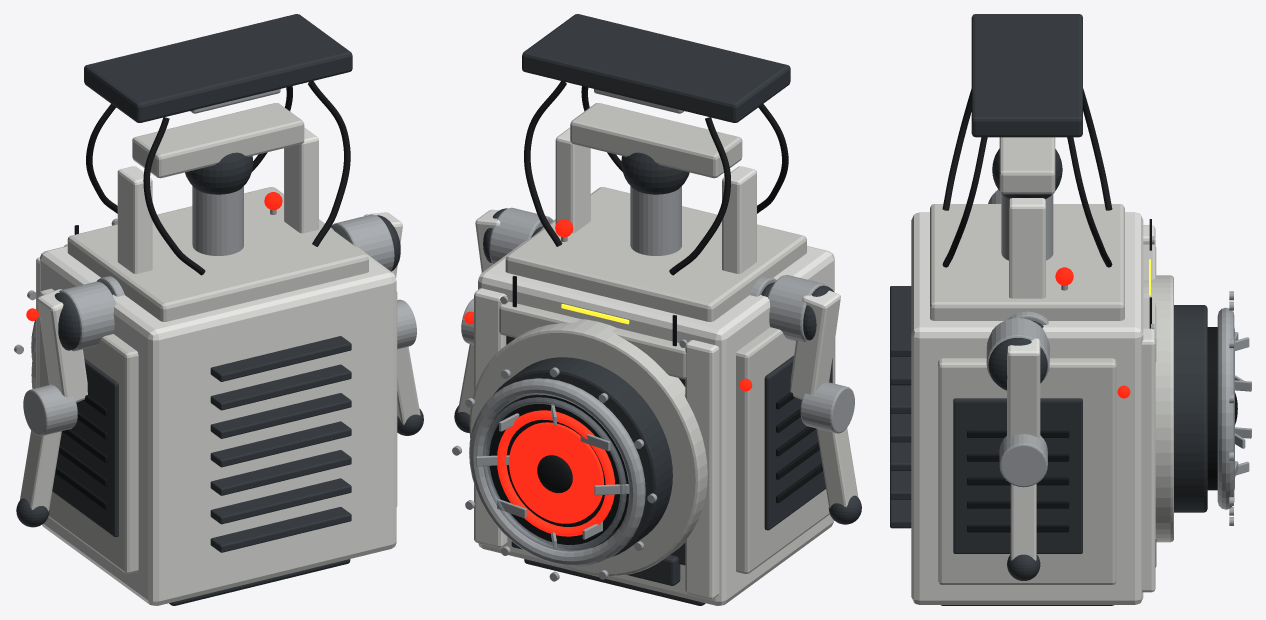
Rendered from moss.glb.
3 renders of one model, left to right at view 1: azimuth 30°, elevation 25°; view 2: azimuth 150°, elevation 25°; view 3: azimuth 270°, elevation 25°, orthographic.
Visible parts, largest first — view 1: Body_Core, Body_Top, Ceiling_Rail, Side_Panel_-1, Gimbal_Yoke_Top, Side_Inset_-1, Yoke_Arm_-1, Gimbal_Post, Yoke_Arm_1, Arm_Upper_-1, Heatsink_5, Heatsink_0 (+18 smaller); view 2: Body_Top, Body_Core, Ceiling_Rail, Lens_Base, Side_Panel_-1, Lens_Rim, Lens_Barrel, Gimbal_Yoke_Top, Front_Pillar_-1, Lens_Red_Glass, Side_Inset_-1, Lens_Inner (+23 smaller); view 3: Body_Core, Side_Panel_1, Body_Top, Ceiling_Rail, Side_Inset_1, Lens_Barrel, Lens_Base, Yoke_Arm_1, Front_Pillar_1, Lens_Rim, Gimbal_Yoke_Top, Arm_Upper_1 (+24 smaller).
Boxes of the visible parts, x1,y1,x2,y2 form: Body_Core: [40, 219, 396, 605]; Body_Top: [67, 187, 368, 321]; Ceiling_Rail: [84, 14, 352, 122]; Side_Panel_-1: [39, 288, 138, 573]; Gimbal_Yoke_Top: [132, 103, 304, 178]; Side_Inset_-1: [52, 358, 118, 536]; Yoke_Arm_-1: [117, 166, 152, 273]; Gimbal_Post: [192, 186, 243, 255]; Yoke_Arm_1: [284, 127, 318, 233]; Arm_Upper_-1: [37, 289, 87, 402]; Heatsink_5: [210, 364, 351, 410]; Heatsink_0: [210, 507, 351, 552]; Body_Top: [505, 187, 806, 321]; Body_Core: [478, 219, 834, 605]; Ceiling_Rail: [522, 14, 790, 122]; Lens_Base: [469, 319, 707, 575]; Side_Panel_-1: [736, 327, 835, 573]; Lens_Rim: [469, 378, 645, 566]; Lens_Barrel: [486, 357, 672, 556]; Gimbal_Yoke_Top: [570, 103, 742, 178]; Front_Pillar_-1: [685, 340, 719, 599]; Lens_Red_Glass: [509, 422, 603, 523]; Side_Inset_-1: [764, 355, 832, 530]; Lens_Inner: [488, 394, 628, 546]; Body_Core: [911, 212, 1143, 604]; Side_Panel_1: [938, 358, 1116, 584]; Body_Top: [930, 204, 1124, 320]; Ceiling_Rail: [971, 14, 1082, 137]; Side_Inset_1: [953, 398, 1082, 553]; Lens_Barrel: [1174, 305, 1207, 512]; Lens_Base: [1143, 275, 1173, 542]; Yoke_Arm_1: [1009, 198, 1045, 298]; Front_Pillar_1: [1142, 328, 1155, 592]; Lens_Rim: [1217, 307, 1234, 509]; Gimbal_Yoke_Top: [999, 137, 1055, 194]; Arm_Upper_1: [1007, 338, 1040, 438].
Bounding box in the file's own units: 2.52 × 2.96 × 1.95.
